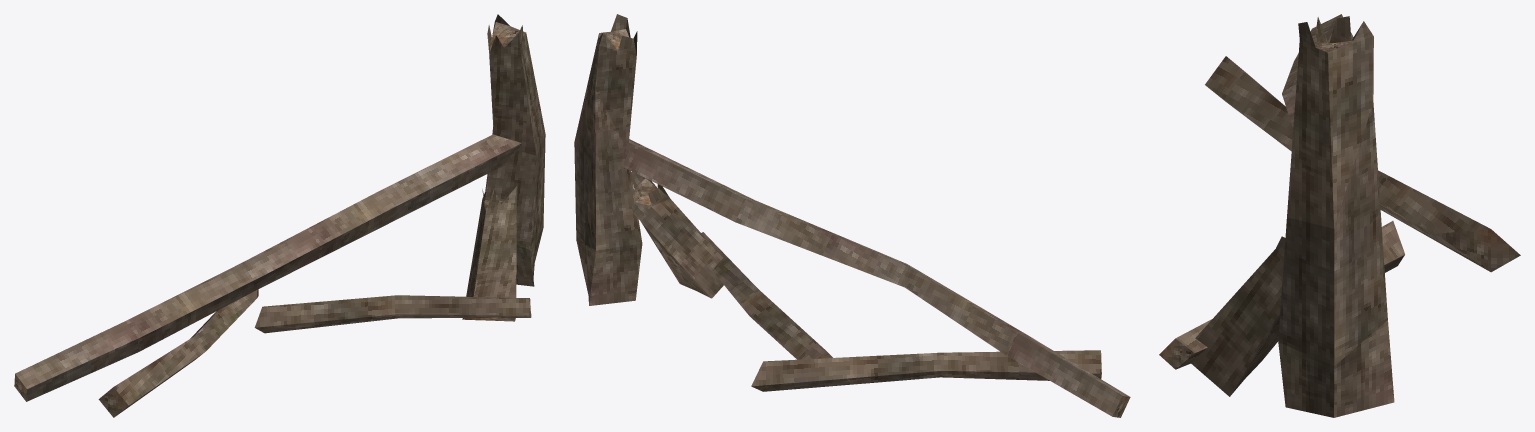
File: wooden_fence_broken_alt2.glb
The picture shows the model from 3 angles, left to right: view 1: azimuth 30°, elevation 25°; view 2: azimuth 150°, elevation 25°; view 3: azimuth 270°, elevation 25°; orthographic projection. The views are drawn at different scales.
Visible parts, largest first — view 1: wooden_fence_broken_alt2; view 2: wooden_fence_broken_alt2; view 3: wooden_fence_broken_alt2.
Part boxes in pixels (x1=…): wooden_fence_broken_alt2: x1=14, y1=14, x2=545, y2=417; wooden_fence_broken_alt2: x1=574, y1=14, x2=1130, y2=417; wooden_fence_broken_alt2: x1=1159, y1=14, x2=1520, y2=417.
Size of the model in its own units: 2.07 by 1.03 by 0.83.
1 material, 1 textured.
